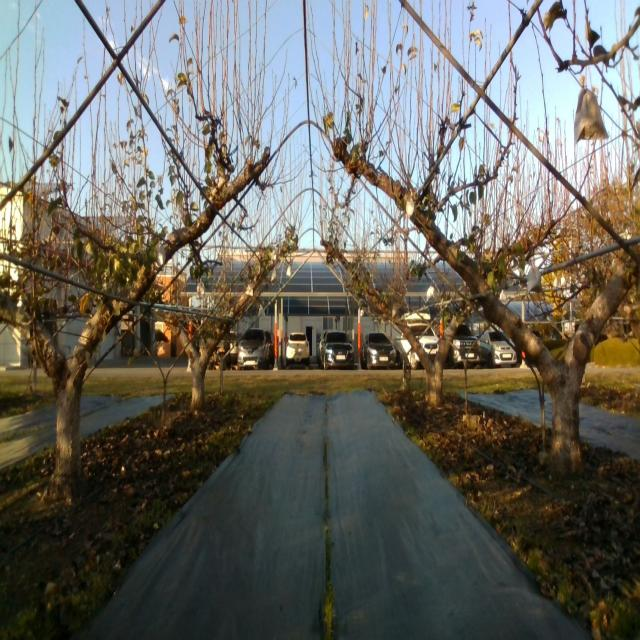pearbags: (574, 88, 609, 145), (526, 265, 543, 294)
